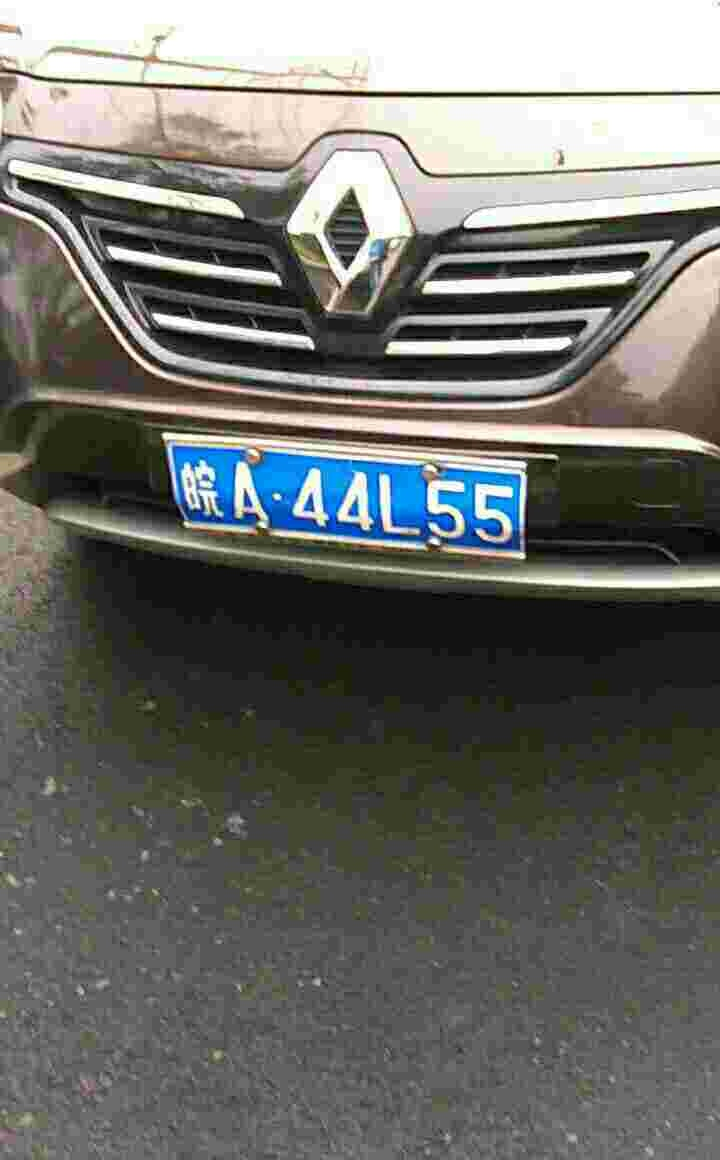license_plate: (172, 449, 530, 550)
